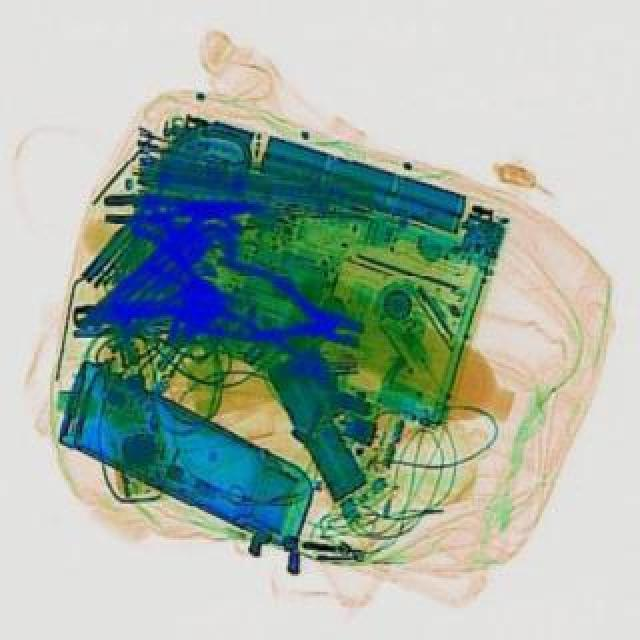wrench: (188, 250, 370, 370), (102, 192, 246, 222)
